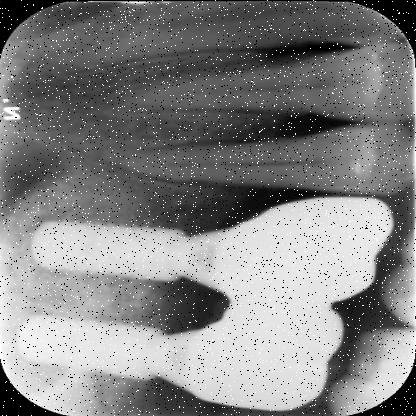ITI: (17, 300, 172, 386), (32, 206, 182, 284)
